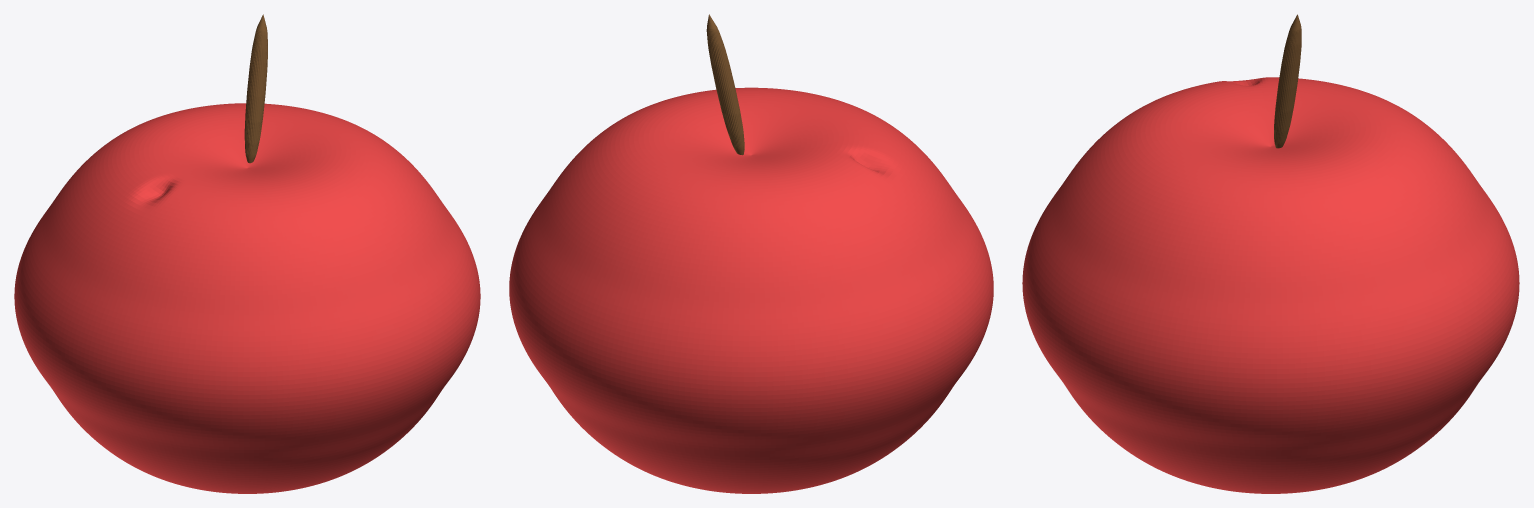
Rendered from manzana3.fbx.
3 views of the same model, side by side, from view 1: azimuth 30°, elevation 25°; view 2: azimuth 150°, elevation 25°; view 3: azimuth 270°, elevation 25° (orthographic). The views are drawn at different scales.
Parts seen in each view (by area): view 1: Manzana; view 2: Manzana; view 3: Manzana.
Boxes of the visible parts, bbox=[...] form: Manzana: bbox=[14, 14, 480, 493]; Manzana: bbox=[509, 14, 993, 493]; Manzana: bbox=[1022, 14, 1519, 493].
Size of the model in its own units: 2.11 by 2.14 by 2.11.
